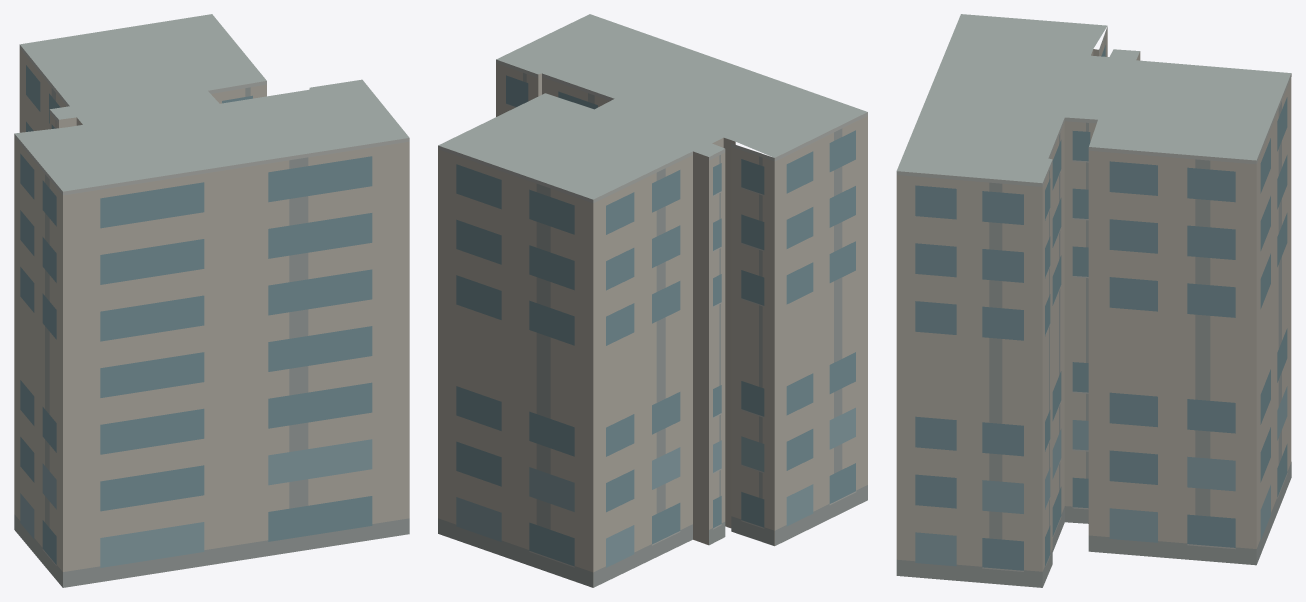
File: survey-upis-32705029.glb
3 renders of one model, left to right at view 1: azimuth 30°, elevation 25°; view 2: azimuth 150°, elevation 25°; view 3: azimuth 270°, elevation 25°, orthographic. The views are drawn at different scales.
Parts seen in each view (by area): view 1: survey-upis-32705029.tmp; view 2: survey-upis-32705029.tmp; view 3: survey-upis-32705029.tmp.
Part boxes in pixels (box(x1,y1,x2,y2)): survey-upis-32705029.tmp: box(14, 14, 409, 587); survey-upis-32705029.tmp: box(438, 14, 867, 587); survey-upis-32705029.tmp: box(896, 14, 1291, 587).
Size of the model in its own units: 23.05 by 25.7 by 22.74.
